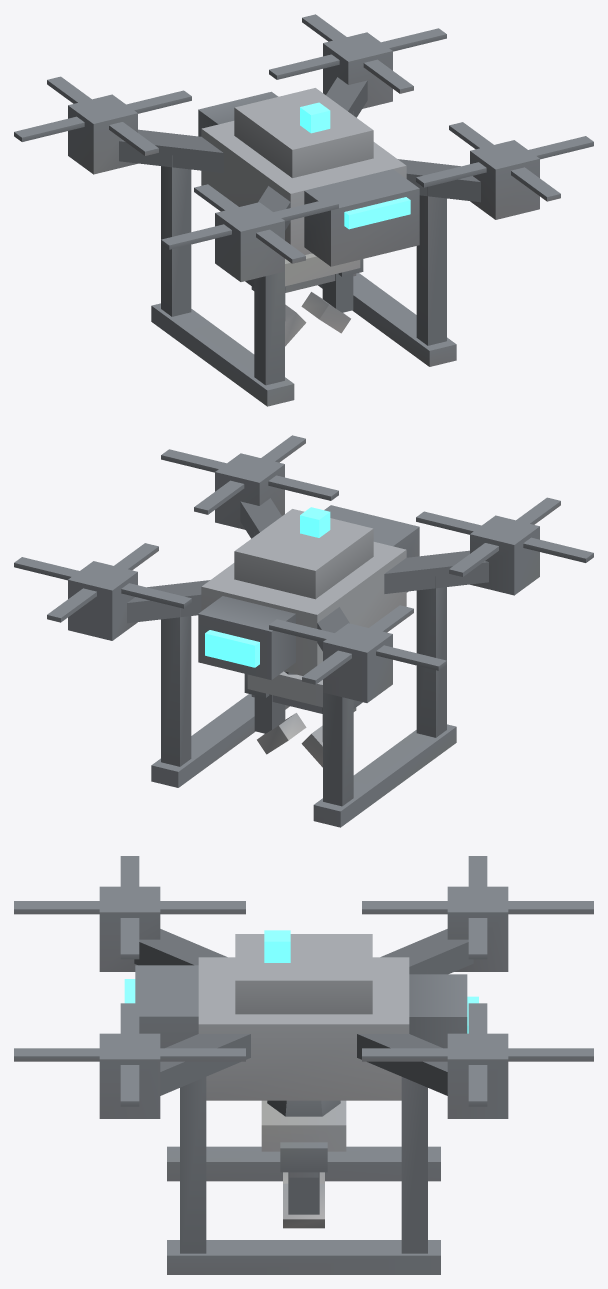
File: drone.glb
3 views of the same model, one above another, from view 1: azimuth 30°, elevation 25°; view 2: azimuth 150°, elevation 25°; view 3: azimuth 270°, elevation 25° (orthographic). The views are drawn at different scales.
Parts seen in each view (by area): view 1: drone_body, rotor_3, rotor_2, rotor_1, rotor_0, claw_jaw_r, claw, claw_jaw_l; view 2: drone_body, rotor_2, rotor_3, rotor_0, rotor_1, claw_jaw_r, claw, claw_jaw_l; view 3: drone_body, claw, rotor_2, rotor_3, rotor_0, rotor_1, claw_jaw_r.
Boxes of the visible parts, x1,y1,x2,y2 form: drone_body: [68, 32, 539, 406]; rotor_3: [269, 14, 446, 93]; rotor_2: [416, 122, 593, 201]; rotor_1: [161, 184, 338, 263]; rotor_0: [14, 76, 191, 155]; claw_jaw_r: [301, 259, 363, 333]; claw: [251, 253, 360, 292]; claw_jaw_l: [245, 279, 306, 346]; drone_body: [68, 453, 539, 827]; rotor_2: [161, 435, 338, 514]; rotor_3: [14, 543, 191, 622]; rotor_0: [269, 605, 446, 684]; rotor_1: [416, 497, 593, 576]; claw_jaw_r: [244, 674, 306, 754]; claw: [247, 671, 356, 713]; claw_jaw_l: [301, 700, 362, 767]; drone_body: [99, 886, 508, 1274]; claw: [261, 1100, 346, 1177]; rotor_2: [14, 1003, 245, 1106]; rotor_3: [362, 1003, 593, 1106]; rotor_0: [362, 856, 593, 959]; rotor_1: [14, 856, 245, 959]; claw_jaw_r: [280, 1142, 327, 1228].
Size of the model in its own units: 1.1 by 0.595 by 1.1.
